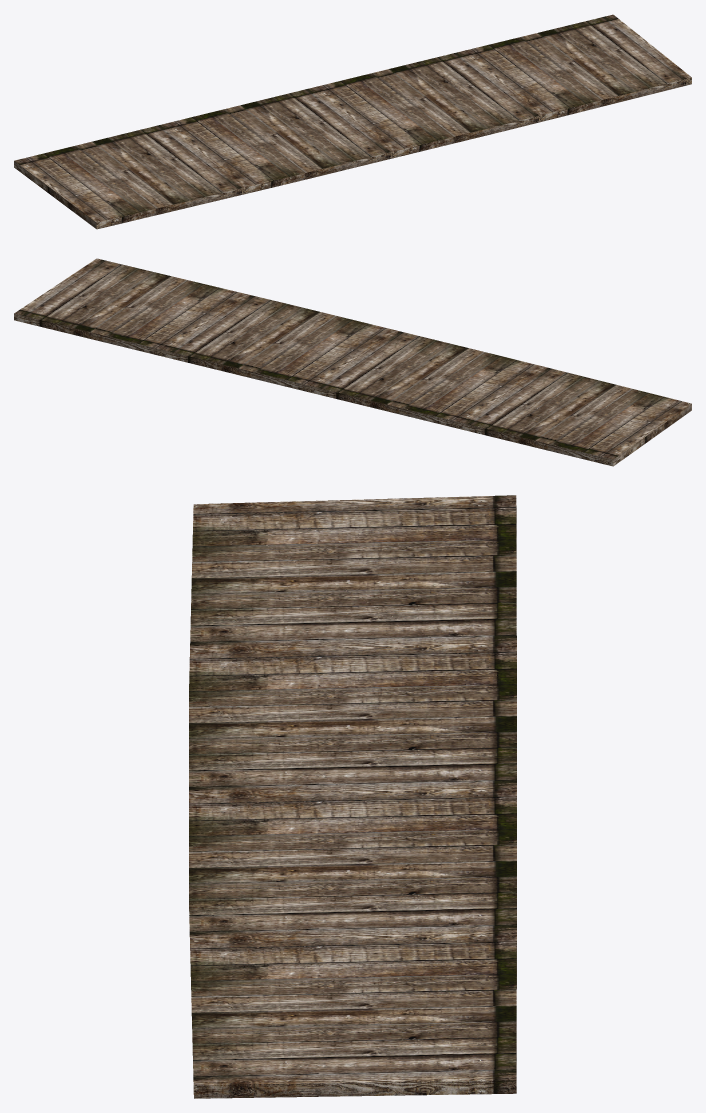
The model's file is porchFloor_01_LOD2.FBX.
The picture shows the model from 3 angles, top to bottom: view 1: azimuth 30°, elevation 25°; view 2: azimuth 150°, elevation 25°; view 3: azimuth 270°, elevation 25°; orthographic projection. The views are drawn at different scales.
Parts seen in each view (by area): view 1: porchFloor_01_LOD2; view 2: porchFloor_01_LOD2; view 3: porchFloor_01_LOD2.
Part boxes in pixels (x1,y1,x2,y2): porchFloor_01_LOD2: [14, 14, 691, 229]; porchFloor_01_LOD2: [14, 258, 691, 466]; porchFloor_01_LOD2: [189, 495, 516, 1098].
Size of the model in its own units: 44.43 by 0.7354 by 10.53.
1 material, 1 textured.
